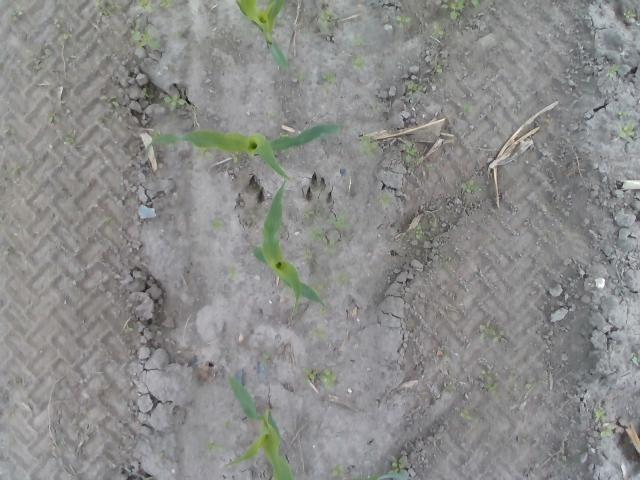Maize: (141, 122, 343, 179), (251, 176, 329, 316), (226, 373, 298, 480), (235, 0, 289, 72)
Weeds: (301, 365, 336, 387), (478, 320, 512, 342), (447, 0, 480, 22), (295, 70, 337, 86), (326, 206, 352, 230), (594, 407, 614, 438), (129, 29, 160, 49), (618, 119, 638, 144), (94, 0, 122, 17), (359, 135, 378, 160), (318, 7, 337, 32), (366, 469, 408, 480), (190, 145, 214, 162), (388, 452, 406, 473), (164, 94, 186, 111), (460, 178, 482, 193), (307, 224, 326, 240), (99, 94, 120, 108), (302, 248, 320, 264), (403, 142, 416, 163), (335, 271, 351, 288), (350, 55, 367, 71), (351, 32, 368, 48), (328, 463, 346, 477), (208, 218, 226, 232), (136, 0, 154, 14), (406, 81, 424, 94), (460, 408, 476, 422), (206, 439, 222, 453), (310, 326, 326, 340), (223, 270, 241, 282), (525, 382, 546, 392), (380, 191, 392, 208), (10, 158, 20, 176), (433, 20, 445, 35), (394, 14, 409, 26), (606, 64, 619, 77), (442, 382, 458, 392), (304, 208, 316, 221), (415, 224, 424, 241), (479, 368, 491, 380), (463, 103, 479, 112), (46, 114, 56, 128), (258, 352, 268, 366), (484, 382, 498, 392), (56, 32, 73, 40), (62, 136, 74, 146), (159, 0, 176, 7), (231, 152, 240, 164), (124, 323, 134, 333), (268, 111, 280, 119), (434, 64, 444, 73), (623, 8, 632, 18), (142, 88, 151, 98), (618, 110, 626, 120), (8, 7, 16, 16), (317, 309, 325, 317), (629, 352, 636, 360)
